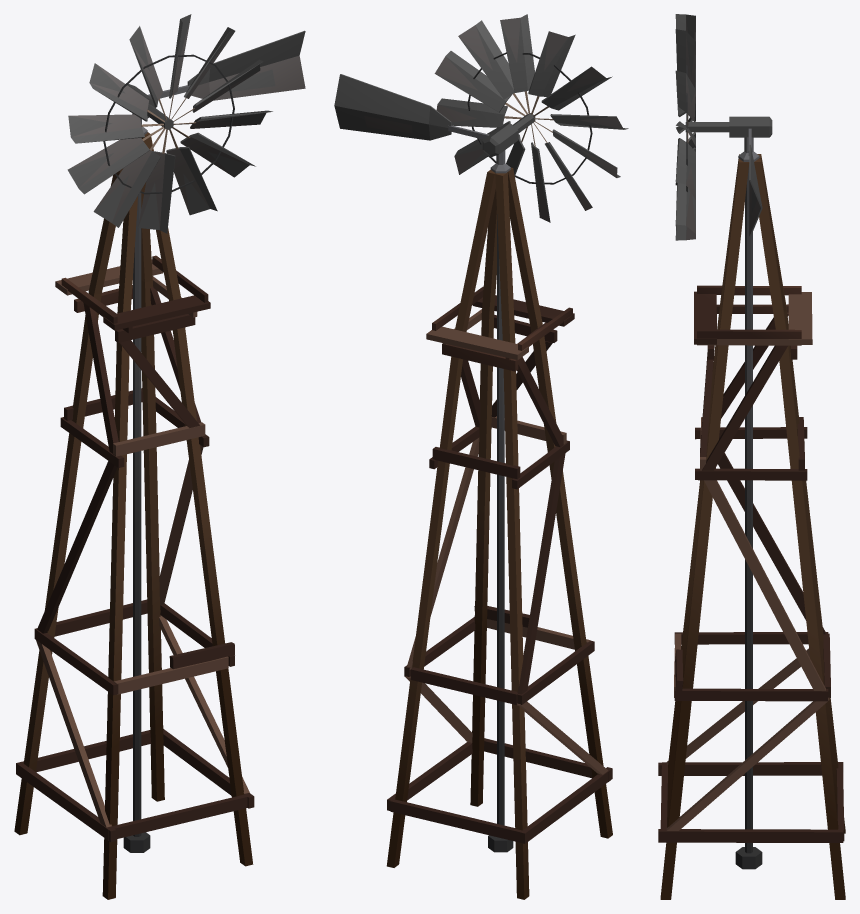
Rendered from windmill.gltf.
3 renders of one model, left to right at view 1: azimuth 30°, elevation 25°; view 2: azimuth 150°, elevation 25°; view 3: azimuth 270°, elevation 25°, orthographic. The views are drawn at different scales.
Parts seen in each view (by area): view 1: Windmill; view 2: Windmill; view 3: Windmill.
Part boxes in pixels (bbox=[...]): Windmill: bbox=[14, 14, 305, 899]; Windmill: bbox=[334, 14, 628, 899]; Windmill: bbox=[658, 14, 845, 899].
Size of what is drawn, in the model's own units: 2.43 by 7.38 by 1.49.
1 material, 1 textured.
